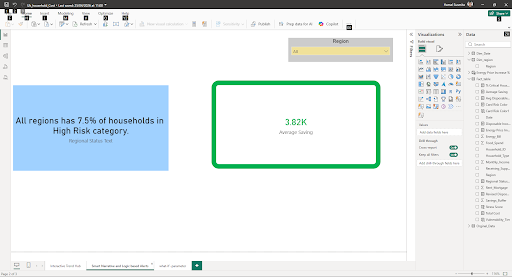

What the dashboard file says about the page in this screenshot:
{"tool":"powerbi","page":{"name":"Smart Narrative and Logic based Alerts ","canvas":[1280,720],"ordinal":1},"visuals":[{"type":"card","fields":{"Values":["Fact_table.Regional Status Text"]},"box":[6.8,180.9,502.9,277.2],"z":0},{"type":"slicer","title":"Region ","fields":{"Values":["Fact_table.Region"]},"box":[896.8,27.2,339.4,77.8],"z":1000},{"type":"card","fields":{"Values":["Fact_table.Average Saving"]},"box":[648.8,165.3,546.6,286],"z":2000}]}

Visuals, with their boxes on the page's 1280x720 design canvas (x1, y1, x2, y2). These are canvas units, not pixel positions in the 512x277 screenshot, which may show the page scaled, cropped or inside an application window:
card - Fact_table.Regional Status Text: detection(7, 181, 510, 458)
"Region " slicer: detection(897, 27, 1236, 105)
card - Fact_table.Average Saving: detection(649, 165, 1195, 451)
